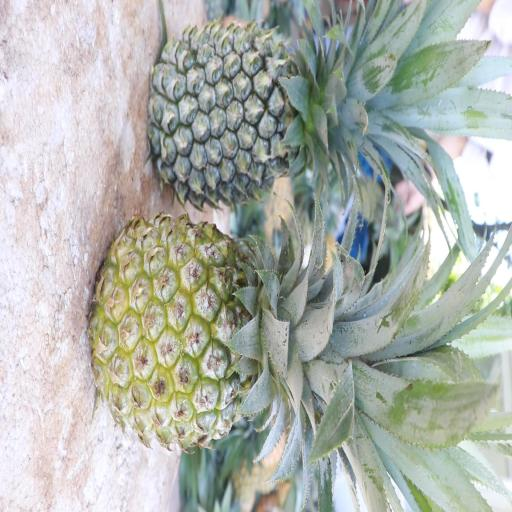------------------------------: (83, 208, 376, 456)
